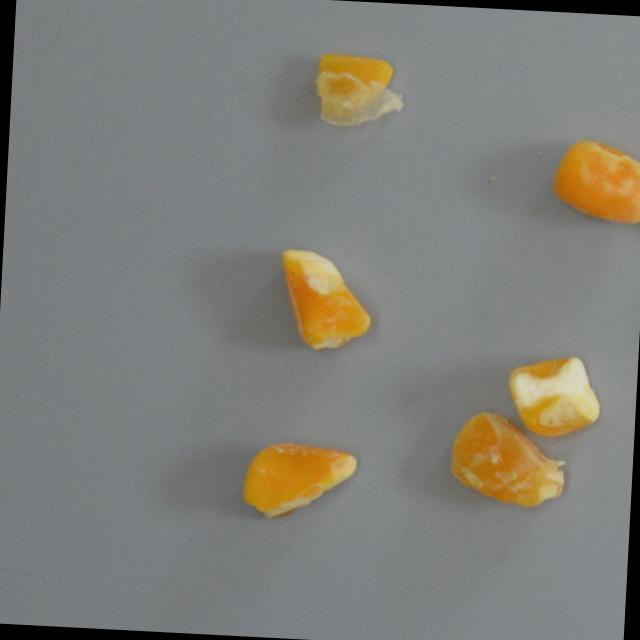no_canjicado: (505, 352, 601, 438)
pelicula: (447, 410, 575, 511), (275, 245, 374, 354), (239, 440, 357, 525), (551, 135, 640, 229), (307, 49, 408, 131)
